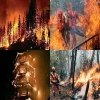fire: (0, 14, 49, 47), (13, 51, 40, 99), (79, 0, 100, 49), (75, 63, 100, 99), (50, 11, 65, 50)
